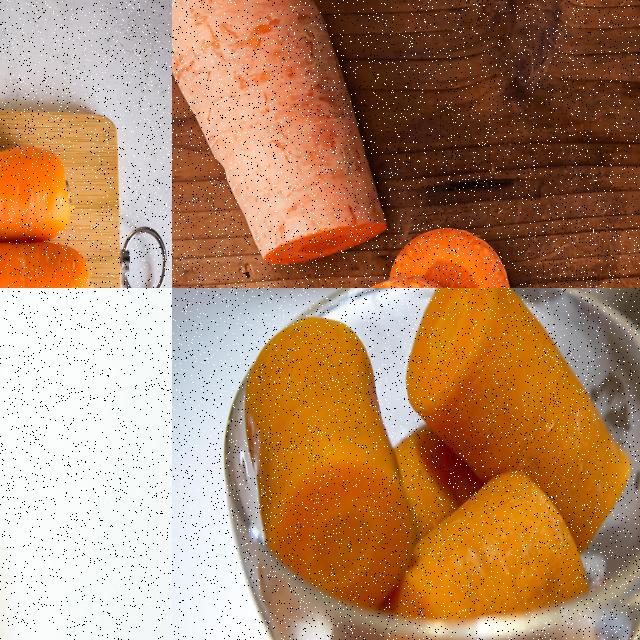carrot: (172, 0, 386, 278), (409, 288, 626, 543), (248, 317, 412, 639), (378, 471, 601, 639), (0, 141, 75, 263)
